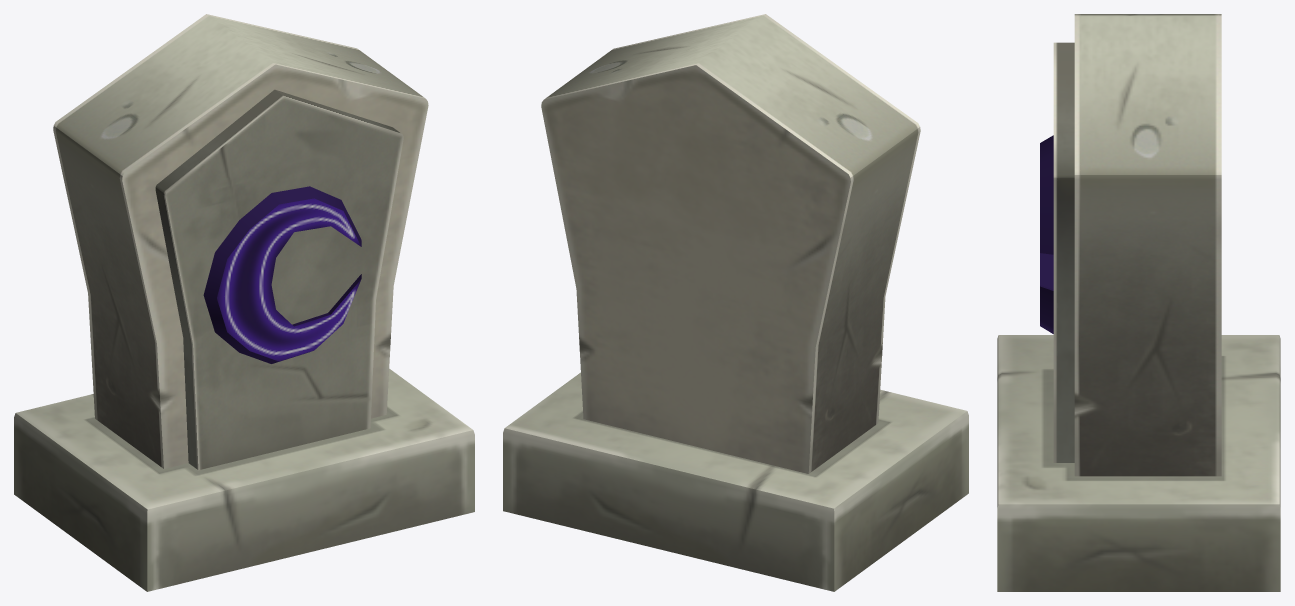
File: Obstructing object (shadow).fbx
The picture shows the model from 3 angles, left to right: view 1: azimuth 30°, elevation 25°; view 2: azimuth 150°, elevation 25°; view 3: azimuth 270°, elevation 25°; orthographic projection. The views are drawn at different scales.
Visible parts, largest first — view 1: Obstructing object (shadow); view 2: Obstructing object (shadow); view 3: Obstructing object (shadow).
Part boxes in pixels (x1,y1,x2,y2): Obstructing object (shadow): (14,14,474,591); Obstructing object (shadow): (503,14,968,591); Obstructing object (shadow): (997,14,1280,591).
Bounding box in the file's own units: 1571 × 2110 × 1105.
